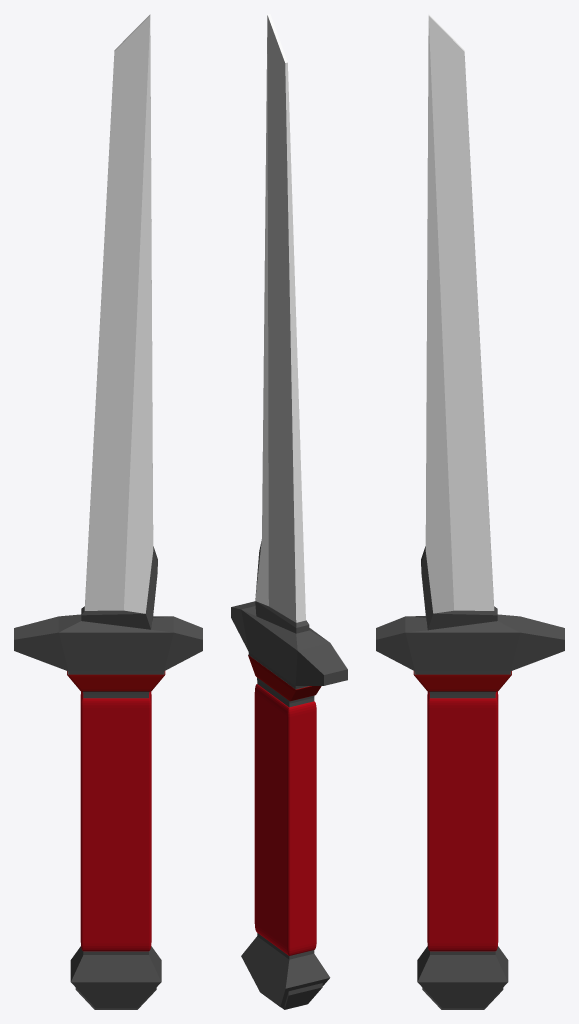
File: legacy-sword-by-smilelite-MErkJR0VYS.glb
3 renders of one model, left to right at view 1: azimuth 90°, elevation 25°; view 2: azimuth 210°, elevation 25°; view 3: azimuth 270°, elevation 25°, orthographic.
Visible parts, largest first — view 1: Legacy_Sword; view 2: Legacy_Sword; view 3: Legacy_Sword.
Boxes of the visible parts, x1,y1,x2,y2 form: Legacy_Sword: (14, 14, 202, 1009); Legacy_Sword: (231, 14, 347, 1009); Legacy_Sword: (376, 14, 564, 1009).
Size of the model in its own units: 0.2483 by 5.16 by 0.8928.
